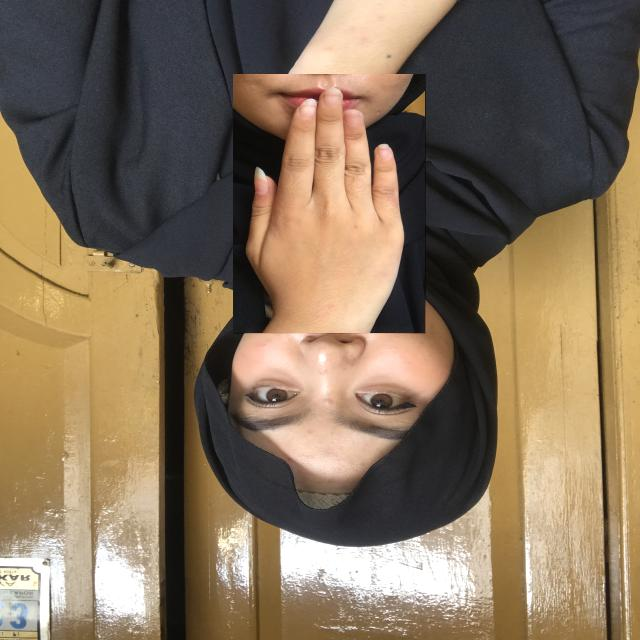ganteng: (233, 74, 426, 334)
